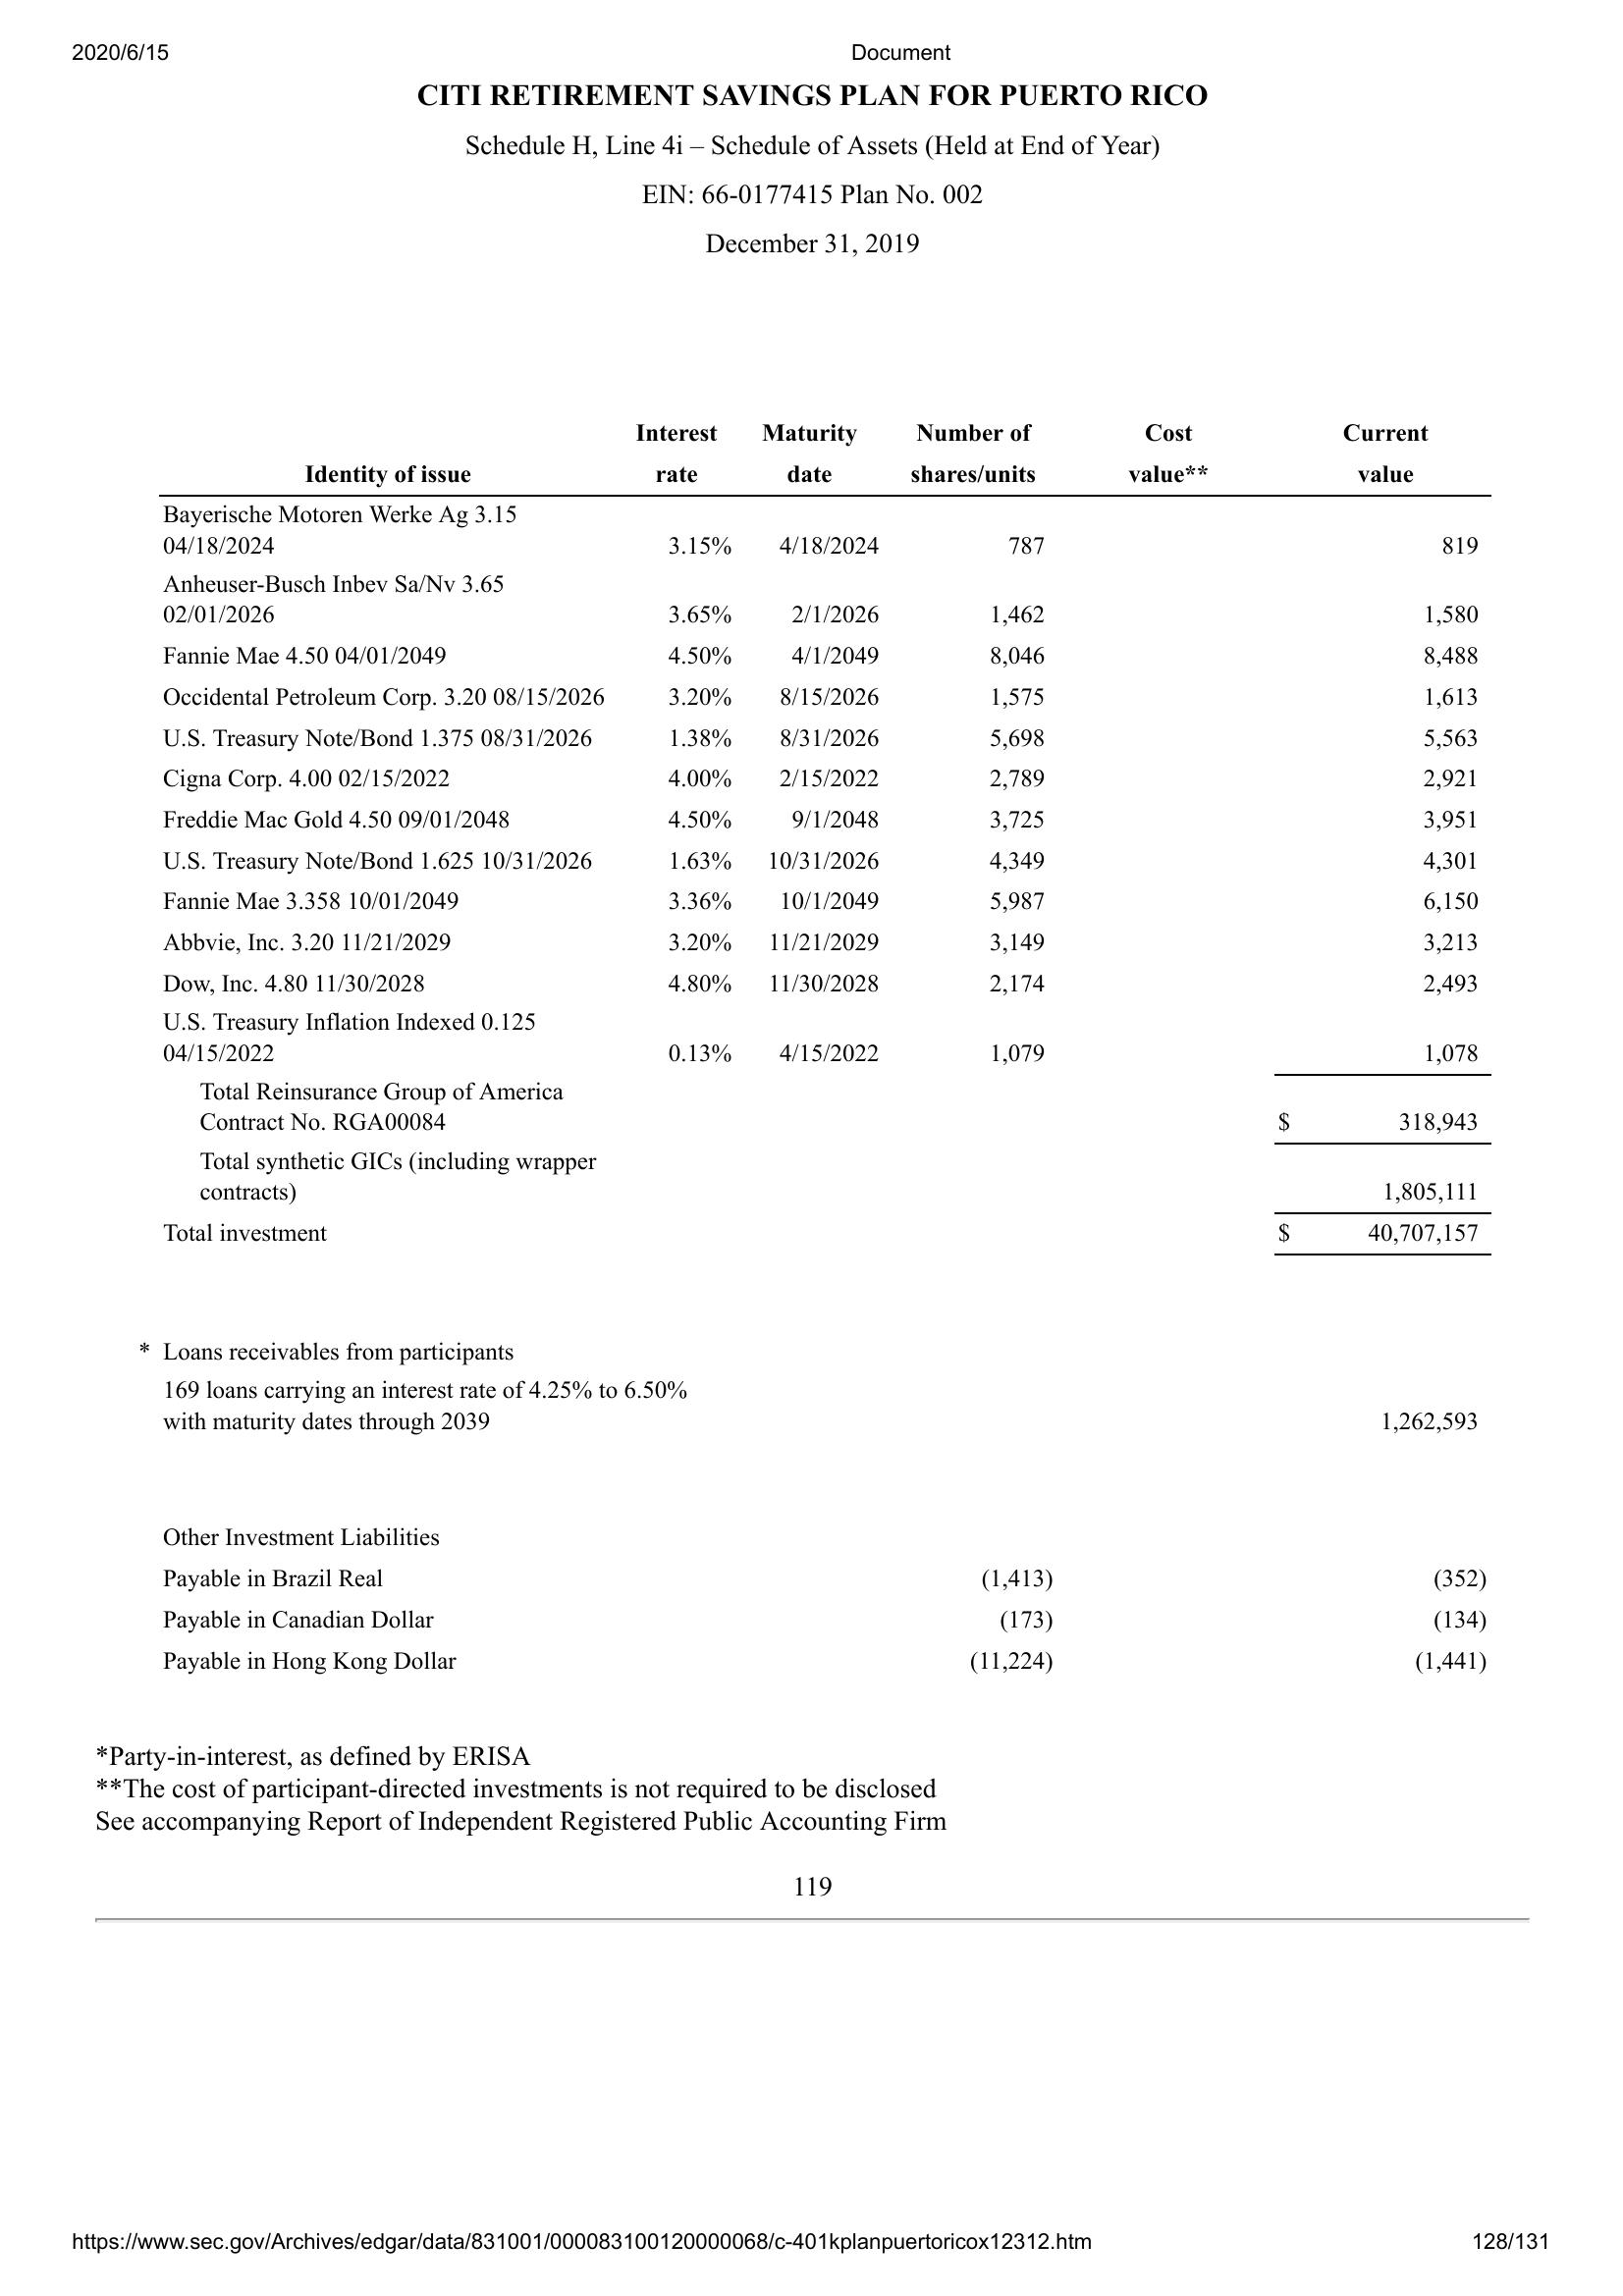table: (132, 413, 1502, 1262)
